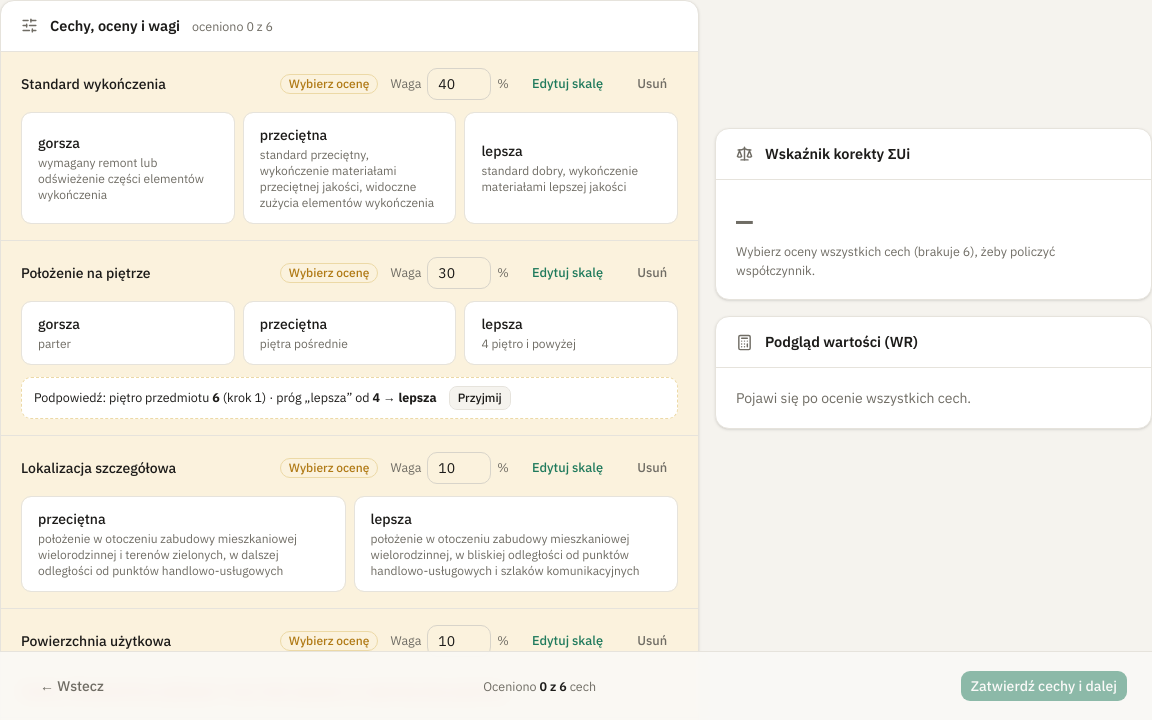
Test: StepFeatures — progi liczbowe i podpowiedź (FH.1, FH.2) › podpowiedź z piętra przedmiotu i progu, przyjmowana przyciskiem (ADR-016 reg. 5)
Expected: the element with test id "threshold-hint-polozenie-na-pietrze" shows "Podpowiedź: piętro przedmiotu 6 (krok 1) · próg „lepsza” od 4 → lepsza", [21, 377, 678, 419]
Click the button "Przyjmij" at (480,398), box [449, 386, 511, 410]
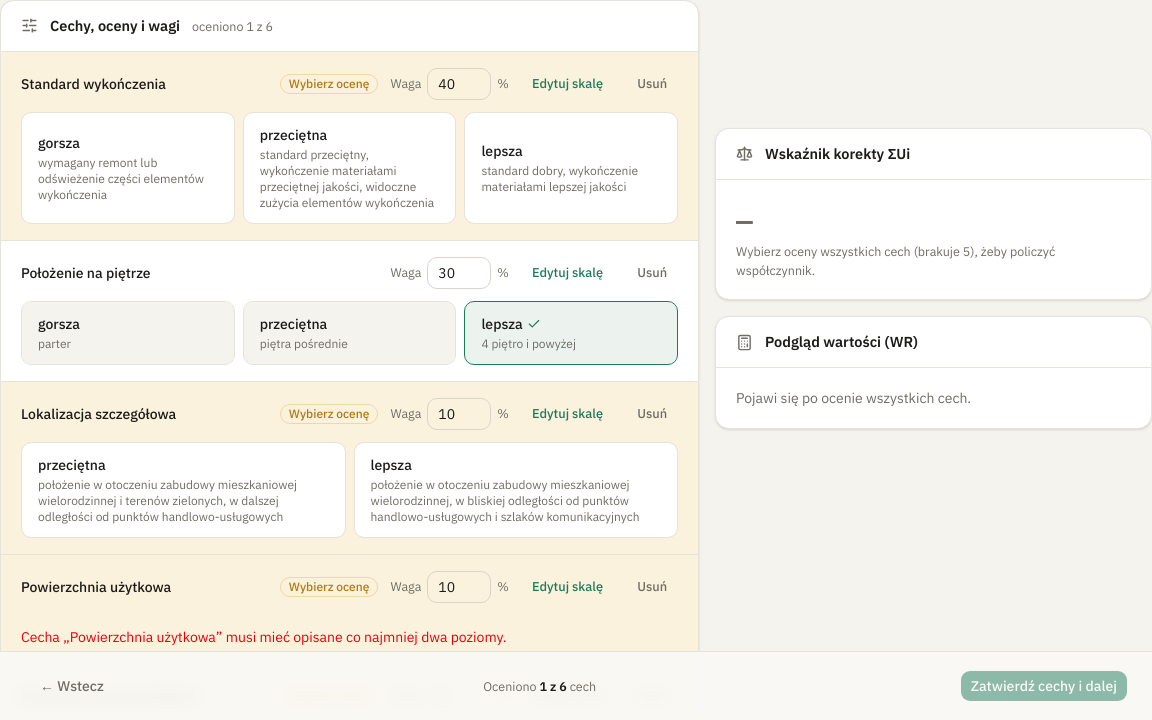
Expected: the element with test id "threshold-hint-polozenie-na-pietrze" is gone
